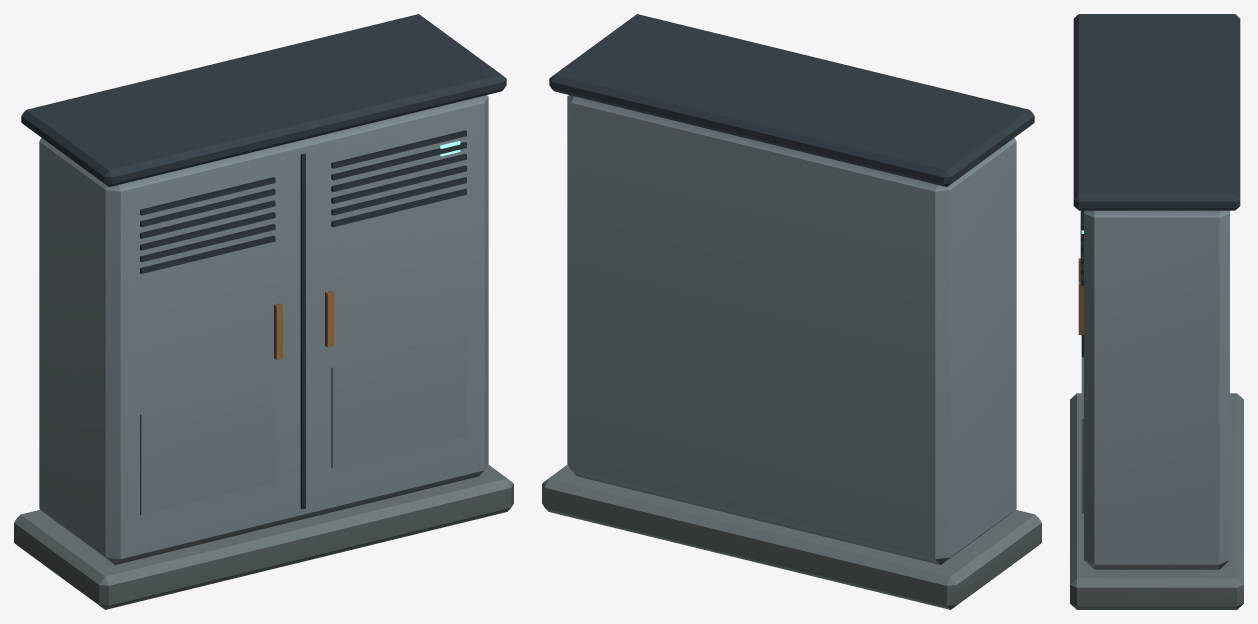
The model's file is utility-cabinet.lod0.glb.
3 views of the same model, side by side, from view 1: azimuth 30°, elevation 25°; view 2: azimuth 150°, elevation 25°; view 3: azimuth 270°, elevation 25° (orthographic). The views are drawn at different scales.
Parts seen in each view (by area): view 1: structure; view 2: structure; view 3: structure.
Boxes of the visible parts, bbox=[...] form: structure: bbox=[14, 14, 513, 609]; structure: bbox=[542, 14, 1041, 609]; structure: bbox=[1070, 14, 1243, 609].
Size of the model in its own units: 1.3 by 1.31 by 0.5.
